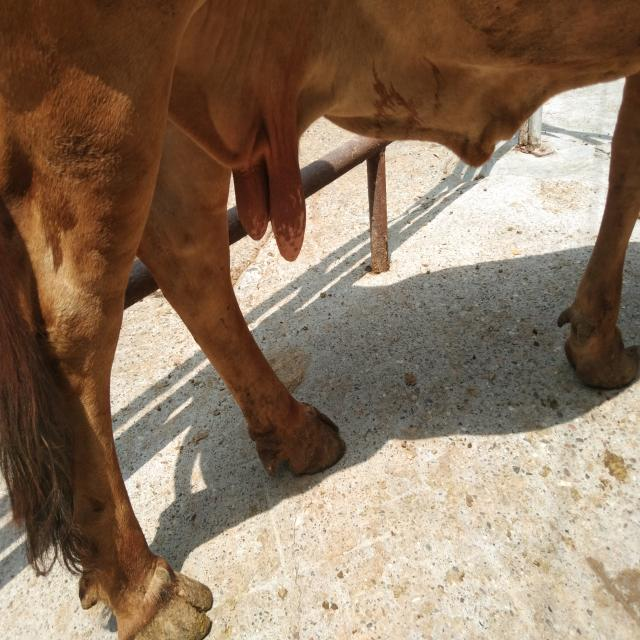Hoof: (114, 557, 213, 639), (557, 303, 639, 391), (254, 400, 346, 478)
